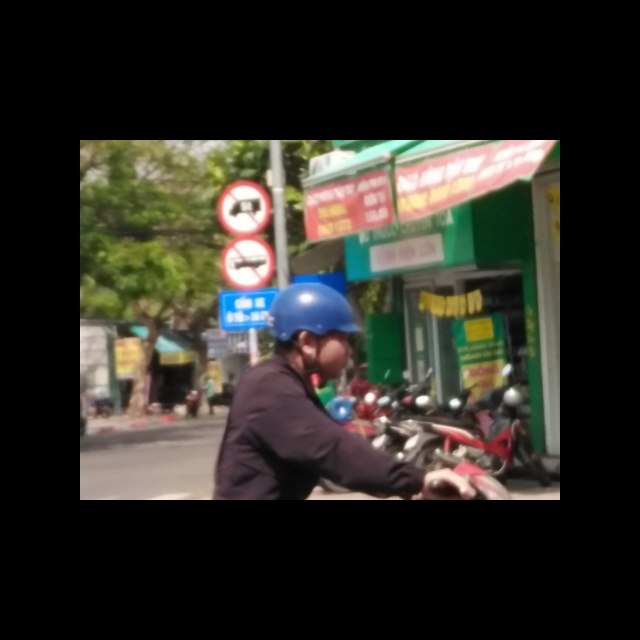Cấm xe tải: (214, 180, 271, 237)
Cấm xe xe khách: (219, 235, 275, 291)
